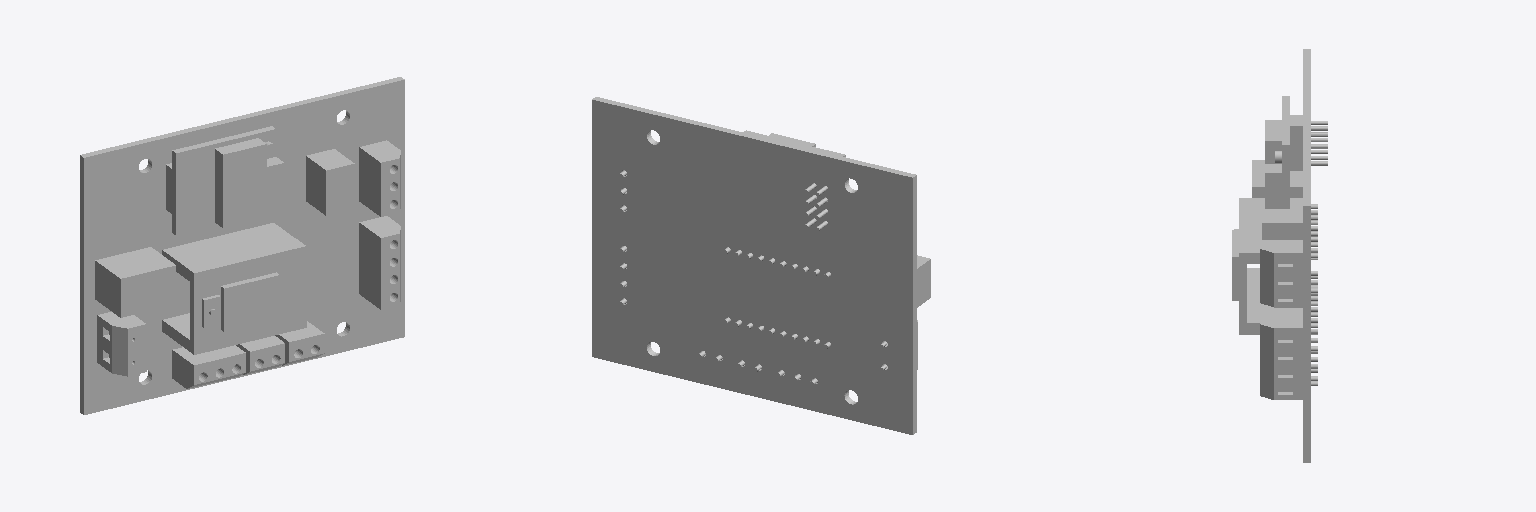
The model's file is MLE31 v1.0.obj.
The picture shows the model from 3 angles: view 1: azimuth 30°, elevation 25°; view 2: azimuth 150°, elevation 25°; view 3: azimuth 270°, elevation 25°; orthographic projection.
Parts seen in each view (by area): view 1: PCB, PCB:2, SX11278, R-78E, PCB:1, Corps1:8, Corps1:2, HFD4, Corps33, Corps1:1, Corps1:3, Corps1:7 (+5 smaller); view 2: PCB, R-78E; view 3: PCB, Corps1:8, Corps1:7, Corps1:6, SX11278, HFD4, PCB:2, Corps32, Corps31, R-78E, PCB:1, connecteur.
Boxes of the visible parts, x1,y1,x2,y2 form: PCB: [80, 77, 404, 414]; PCB:2: [190, 243, 306, 354]; SX11278: [215, 138, 284, 227]; R-78E: [95, 247, 175, 317]; PCB:1: [172, 126, 275, 235]; Corps1:8: [359, 140, 400, 216]; Corps1:2: [97, 312, 146, 376]; HFD4: [306, 149, 354, 215]; Corps33: [221, 272, 279, 331]; Corps1:1: [162, 223, 294, 276]; Corps1:3: [172, 345, 245, 388]; Corps1:7: [359, 216, 400, 273]; PCB: [592, 97, 916, 434]; R-78E: [917, 255, 930, 307]; PCB: [1303, 49, 1310, 462]; Corps1:8: [1260, 240, 1302, 307]; Corps1:7: [1260, 315, 1302, 364]; Corps1:6: [1260, 359, 1302, 399]; SX11278: [1265, 120, 1289, 208]; HFD4: [1262, 209, 1302, 239]; PCB:2: [1239, 198, 1246, 334]; Corps32: [1247, 268, 1259, 334]; Corps31: [1247, 198, 1259, 263]; R-78E: [1252, 160, 1302, 197]; PCB:1: [1282, 96, 1289, 208]; connecteur: [1290, 115, 1302, 170].
Size of the model in its own units: 7.3 by 5.6 by 1.91.